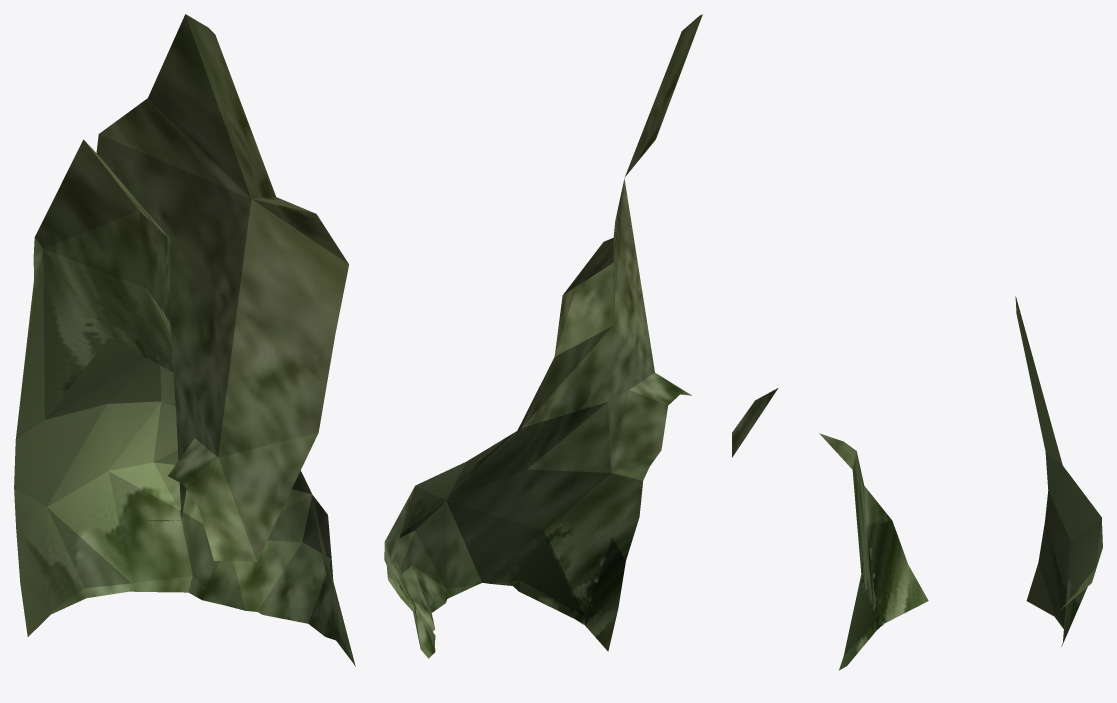
The picture shows the model from 3 angles, left to right: view 1: azimuth 30°, elevation 25°; view 2: azimuth 150°, elevation 25°; view 3: azimuth 270°, elevation 25°; orthographic projection. The views are drawn at different scales.
Bounding box in the file's own units: 0.895 × 2.5 × 1.43.
Materials: 1 (1 with a texture image).
